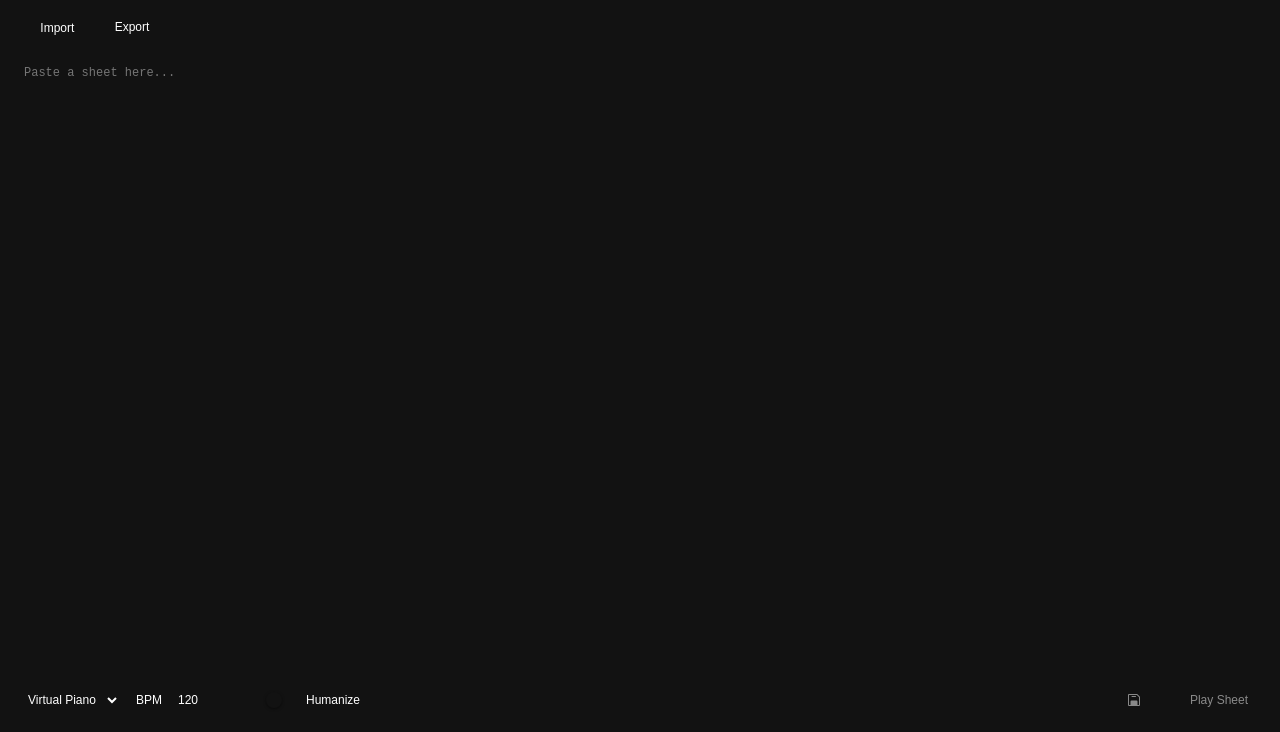
Test: TranslatorTab save button › asks where to save, suggesting the song name with .txt, and writes the sheet there
Click the button "Export". click: (132, 27)
box: [99,12,165,42]
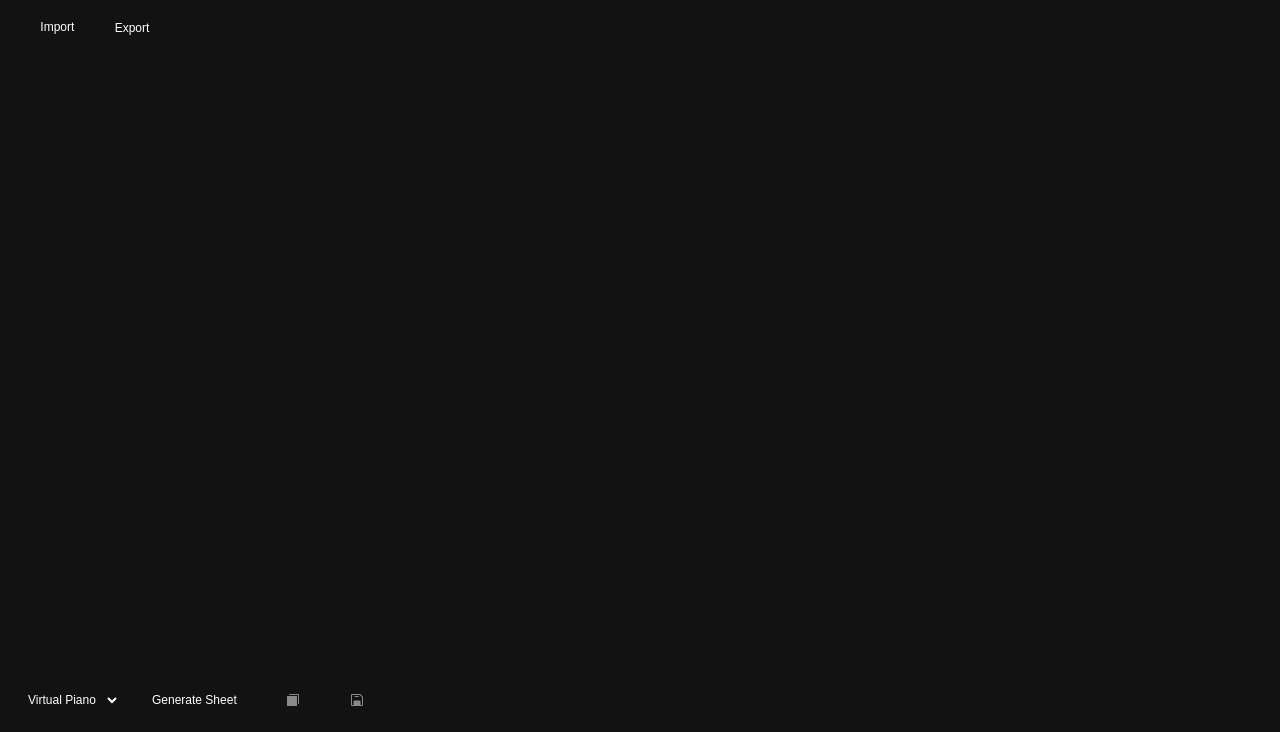
Click the button "Generate Sheet". click: (194, 700)
box: [136,685,253,715]
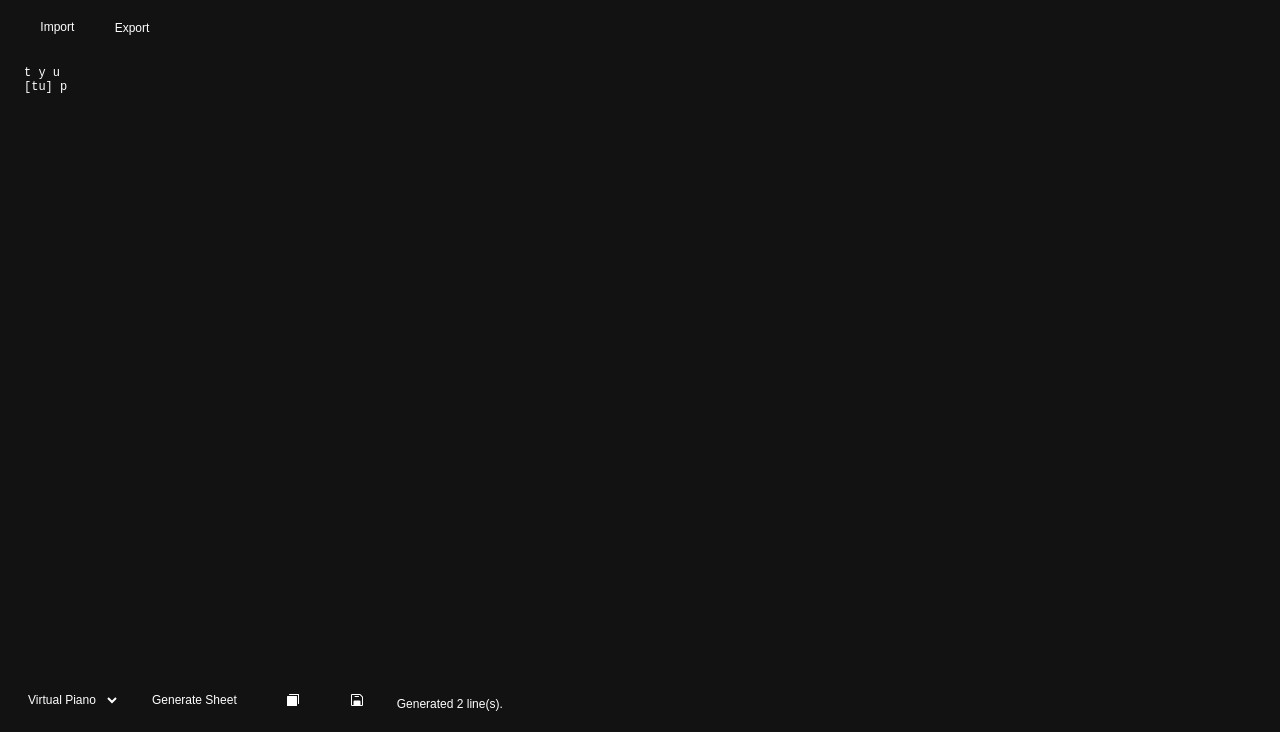
Now the button named "Save sheet" is enabled
Click the button named "Save sheet". click: (357, 700)
box: [333,684,381,716]
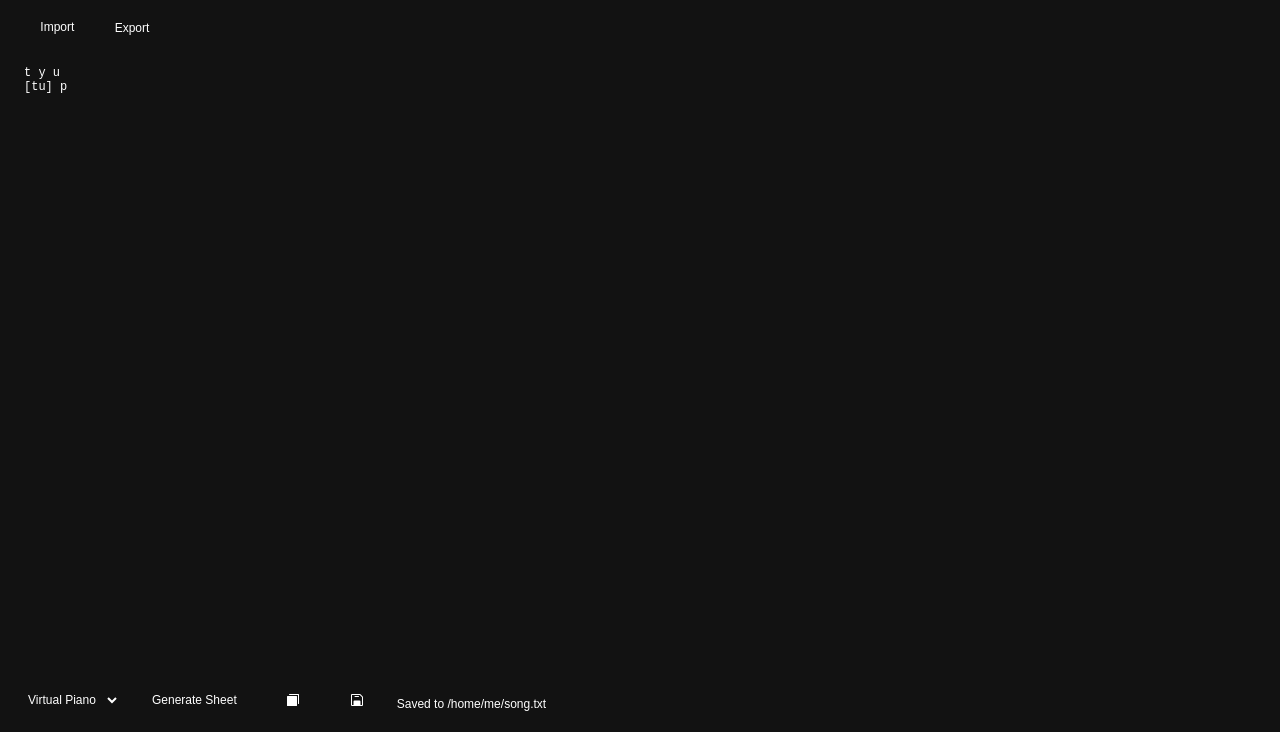
Now the text "Saved to /home/me/song.txt" is shown, box [397,697,546,711]
